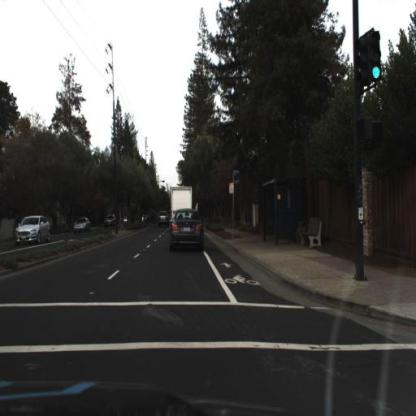car: (170, 208, 207, 255), (16, 216, 51, 247), (73, 215, 92, 235), (158, 209, 172, 230), (158, 209, 170, 230)
truck: (169, 185, 193, 217)
